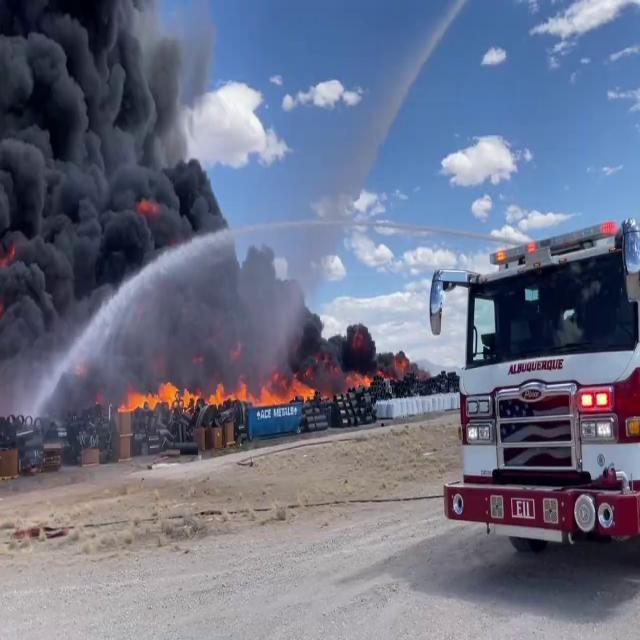Fire: (124, 367, 383, 413), (121, 371, 334, 417)
Smoke: (1, 0, 288, 388)
